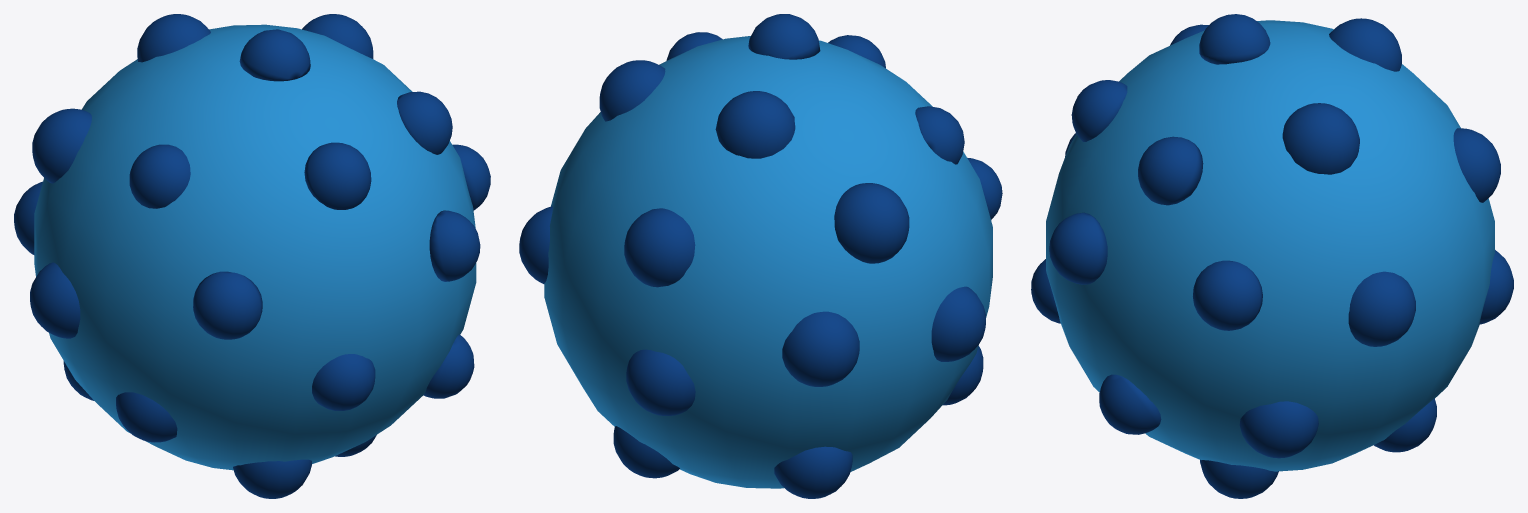
File: Sphere_obstacle.fbx
The picture shows the model from 3 angles, left to right: view 1: azimuth 30°, elevation 25°; view 2: azimuth 150°, elevation 25°; view 3: azimuth 270°, elevation 25°; orthographic projection.
Visible parts, largest first — view 1: Sphere_1, Sphere_2; view 2: Sphere_1, Sphere_2; view 3: Sphere_1, Sphere_2.
Part boxes in pixels (x1,y1,x2,y2): Sphere_1: [34, 24, 476, 470]; Sphere_2: [14, 14, 490, 498]; Sphere_1: [544, 36, 992, 488]; Sphere_2: [519, 14, 1002, 498]; Sphere_1: [1046, 20, 1494, 471]; Sphere_2: [1031, 14, 1513, 498].
Bounding box in the file's own units: 102 × 101 × 99.63.
